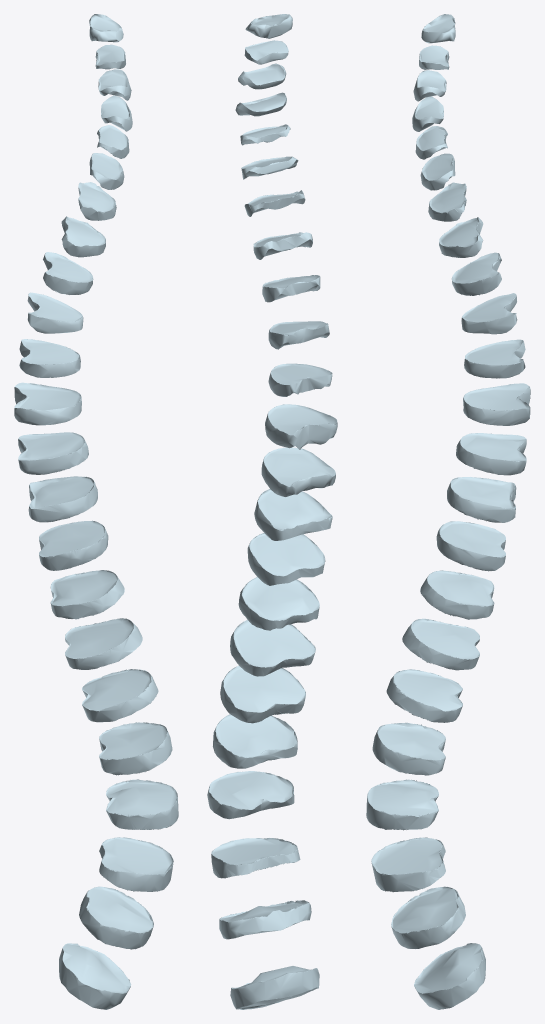
Rendered from discs.glb.
3 views of the same model, side by side, from view 1: azimuth 90°, elevation 25°; view 2: azimuth 210°, elevation 25°; view 3: azimuth 270°, elevation 25° (orthographic).
Visible parts, largest first — view 1: intervertebral_disk_of_fourth_lumbar_vertebra|0|disc, intervertebral_disk_of_fifth_lumbar_vertebra|0|disc, intervertebral_disk_of_third_lumbar_vertebra|0|disc, intervertebral_disk_of_second_lumbar_vertebra|0|disc, intervertebral_disk_of_first_lumbar_vertebra|0|disc, intervertebral_disk|0|disc, intervertebral_disk_of_eleventh_thoracic_vertebra|0|disc, intervertebral_disk_of_tenth_thoracic_vertebra|0|disc, intervertebral_disk_of_ninth_thoracic_vertebra|0|disc, intervertebral_disk_of_eighth_thoracic_vertebra|0|disc, intervertebral_disk_of_seventh_thoracic_vertebra|0|disc, intervertebral_disk_of_sixth_thoracic_vertebra|0|disc (+11 smaller); view 2: intervertebral_disk|0|disc, intervertebral_disk_of_first_lumbar_vertebra|0|disc, intervertebral_disk_of_eleventh_thoracic_vertebra|0|disc, intervertebral_disk_of_second_lumbar_vertebra|0|disc, intervertebral_disk_of_tenth_thoracic_vertebra|0|disc, intervertebral_disk_of_ninth_thoracic_vertebra|0|disc, intervertebral_disk_of_eighth_thoracic_vertebra|0|disc, intervertebral_disk_of_seventh_thoracic_vertebra|0|disc, intervertebral_disk_of_third_lumbar_vertebra|0|disc, intervertebral_disk_of_fifth_lumbar_vertebra|0|disc, intervertebral_disk_of_sixth_thoracic_vertebra|0|disc, intervertebral_disk_of_fourth_lumbar_vertebra|0|disc (+11 smaller); view 3: intervertebral_disk_of_fourth_lumbar_vertebra|0|disc, intervertebral_disk_of_fifth_lumbar_vertebra|0|disc, intervertebral_disk_of_third_lumbar_vertebra|0|disc, intervertebral_disk_of_second_lumbar_vertebra|0|disc, intervertebral_disk_of_first_lumbar_vertebra|0|disc, intervertebral_disk|0|disc, intervertebral_disk_of_eleventh_thoracic_vertebra|0|disc, intervertebral_disk_of_tenth_thoracic_vertebra|0|disc, intervertebral_disk_of_ninth_thoracic_vertebra|0|disc, intervertebral_disk_of_eighth_thoracic_vertebra|0|disc, intervertebral_disk_of_seventh_thoracic_vertebra|0|disc, intervertebral_disk_of_sixth_thoracic_vertebra|0|disc (+11 smaller).
Boxes of the visible parts, x1,y1,x2,y2 form: intervertebral_disk_of_fourth_lumbar_vertebra|0|disc: (79,886,153,949); intervertebral_disk_of_fifth_lumbar_vertebra|0|disc: (59,943,131,1009); intervertebral_disk_of_third_lumbar_vertebra|0|disc: (99,837,173,891); intervertebral_disk_of_second_lumbar_vertebra|0|disc: (106,779,178,829); intervertebral_disk_of_first_lumbar_vertebra|0|disc: (99,722,172,775); intervertebral_disk|0|disc: (82,669,158,722); intervertebral_disk_of_eleventh_thoracic_vertebra|0|disc: (65,618,142,669); intervertebral_disk_of_tenth_thoracic_vertebra|0|disc: (50,570,124,619); intervertebral_disk_of_ninth_thoracic_vertebra|0|disc: (39,520,108,570); intervertebral_disk_of_eighth_thoracic_vertebra|0|disc: (28,476,97,522); intervertebral_disk_of_seventh_thoracic_vertebra|0|disc: (18,432,88,474); intervertebral_disk_of_sixth_thoracic_vertebra|0|disc: (14,382,81,425); intervertebral_disk|0|disc: (220,666,305,723); intervertebral_disk_of_first_lumbar_vertebra|0|disc: (212,714,297,768); intervertebral_disk_of_eleventh_thoracic_vertebra|0|disc: (230,620,315,676); intervertebral_disk_of_second_lumbar_vertebra|0|disc: (207,771,294,819); intervertebral_disk_of_tenth_thoracic_vertebra|0|disc: (238,577,319,630); intervertebral_disk_of_ninth_thoracic_vertebra|0|disc: (247,533,325,585); intervertebral_disk_of_eighth_thoracic_vertebra|0|disc: (254,489,332,540); intervertebral_disk_of_seventh_thoracic_vertebra|0|disc: (261,447,335,496); intervertebral_disk_of_third_lumbar_vertebra|0|disc: (211,838,300,878); intervertebral_disk_of_fifth_lumbar_vertebra|0|disc: (230,966,319,1009); intervertebral_disk_of_sixth_thoracic_vertebra|0|disc: (265,404,337,449); intervertebral_disk_of_fourth_lumbar_vertebra|0|disc: (219,900,311,939); intervertebral_disk_of_fourth_lumbar_vertebra|0|disc: (391,886,465,948); intervertebral_disk_of_fifth_lumbar_vertebra|0|disc: (414,943,485,1009); intervertebral_disk_of_third_lumbar_vertebra|0|disc: (371,837,445,892); intervertebral_disk_of_second_lumbar_vertebra|0|disc: (366,779,438,830); intervertebral_disk_of_first_lumbar_vertebra|0|disc: (372,722,445,775); intervertebral_disk|0|disc: (386,669,462,722); intervertebral_disk_of_eleventh_thoracic_vertebra|0|disc: (402,618,479,670); intervertebral_disk_of_tenth_thoracic_vertebra|0|disc: (420,570,494,619); intervertebral_disk_of_ninth_thoracic_vertebra|0|disc: (436,521,505,571); intervertebral_disk_of_eighth_thoracic_vertebra|0|disc: (447,477,516,522); intervertebral_disk_of_seventh_thoracic_vertebra|0|disc: (456,433,526,475); intervertebral_disk_of_sixth_thoracic_vertebra|0|disc: (463,383,530,425).
Size of the model in its own units: 0.0485 by 0.556 by 0.0844.
